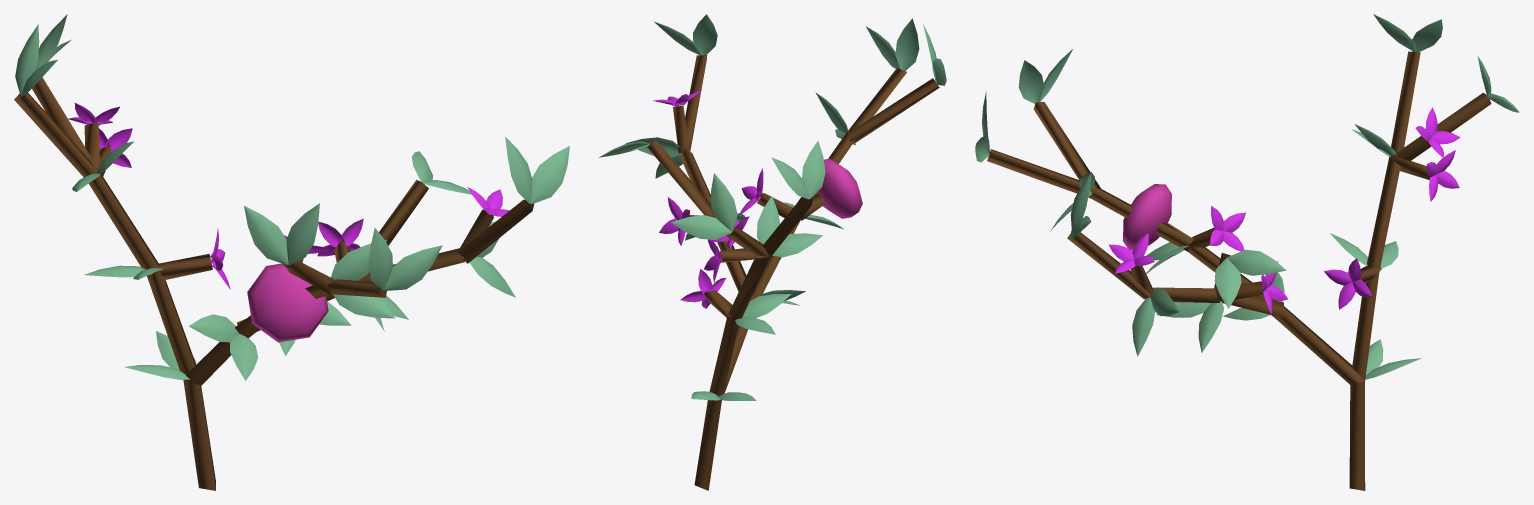
Rendered from plant_seed_100.obj.
3 views of the same model, side by side, from view 1: azimuth 30°, elevation 25°; view 2: azimuth 150°, elevation 25°; view 3: azimuth 270°, elevation 25° (orthographic). The views are drawn at different scales.
Parts seen in each view (by area): view 1: shape_0, shape_2, shape_3, shape_1; view 2: shape_2, shape_0, shape_1, shape_3; view 3: shape_2, shape_0, shape_1, shape_3.
Boxes of the visible parts, x1,y1,x2,y2 form: shape_0: (15,14,569,380); shape_2: (14,77,534,490); shape_3: (247,263,328,342); shape_1: (68,103,509,289); shape_2: (647,55,939,490); shape_0: (599,14,946,400); shape_1: (653,90,763,308); shape_3: (817,158,862,218); shape_2: (987,51,1491,490); shape_0: (975,14,1519,379); shape_1: (1108,107,1460,313); shape_3: (1123,184,1171,250).
Bounding box in the file's own units: 3.01 × 3.55 × 4.23.
